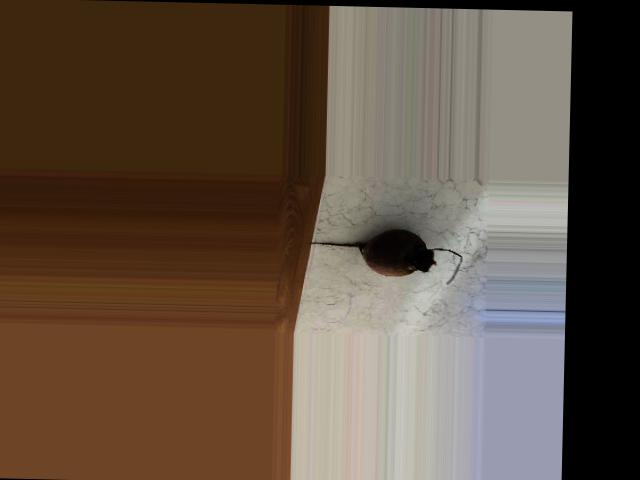beet: (306, 226, 461, 284)
